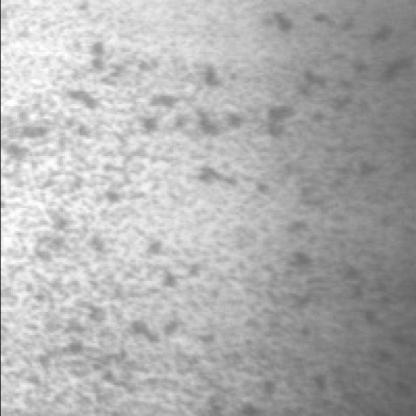pitted_surface: (2, 62, 395, 408), (58, 15, 412, 158)
